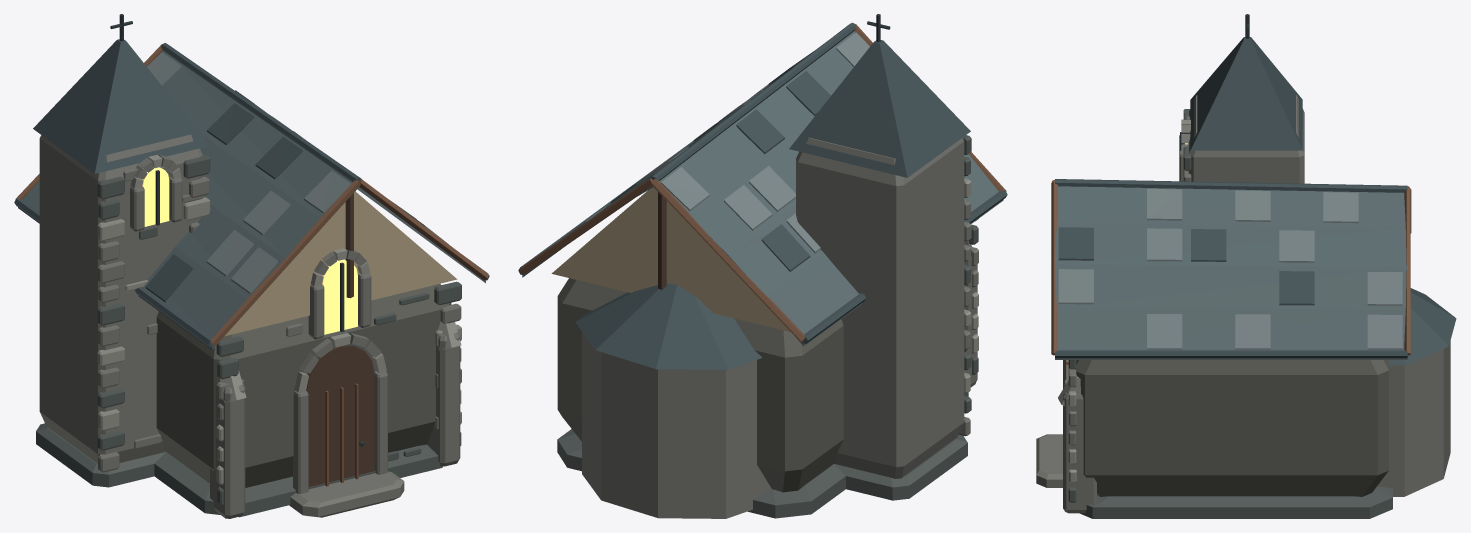
Rendered from BLD_V3_Chapel_Apse.glb.
The picture shows the model from 3 angles, left to right: view 1: azimuth 30°, elevation 25°; view 2: azimuth 150°, elevation 25°; view 3: azimuth 270°, elevation 25°; orthographic projection. The views are drawn at different scales.
Parts seen in each view (by area): view 1: BLD_V3_Chapel_Apse; view 2: BLD_V3_Chapel_Apse; view 3: BLD_V3_Chapel_Apse.
Boxes of the visible parts, box(x1,y1,x2,y2) form: BLD_V3_Chapel_Apse: box(14, 14, 489, 518); BLD_V3_Chapel_Apse: box(518, 14, 1007, 518); BLD_V3_Chapel_Apse: box(1036, 14, 1456, 518).
Size of the model in its own units: 3.93 by 5.16 by 4.92.
